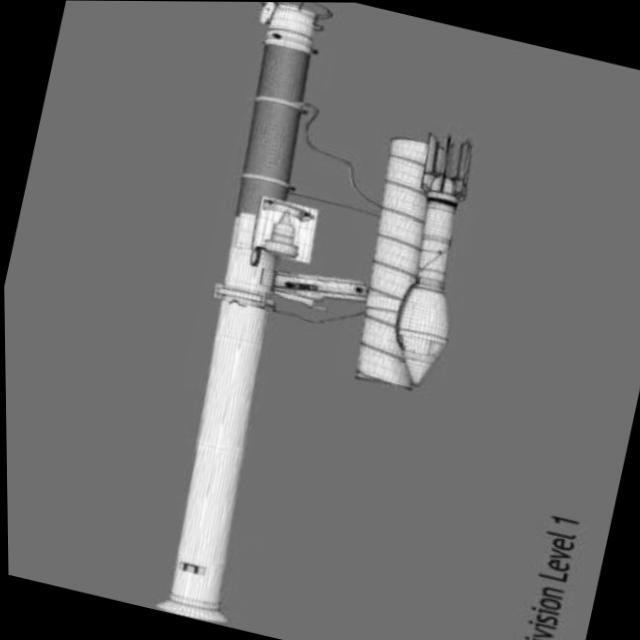weapon: (115, 1, 517, 640)
